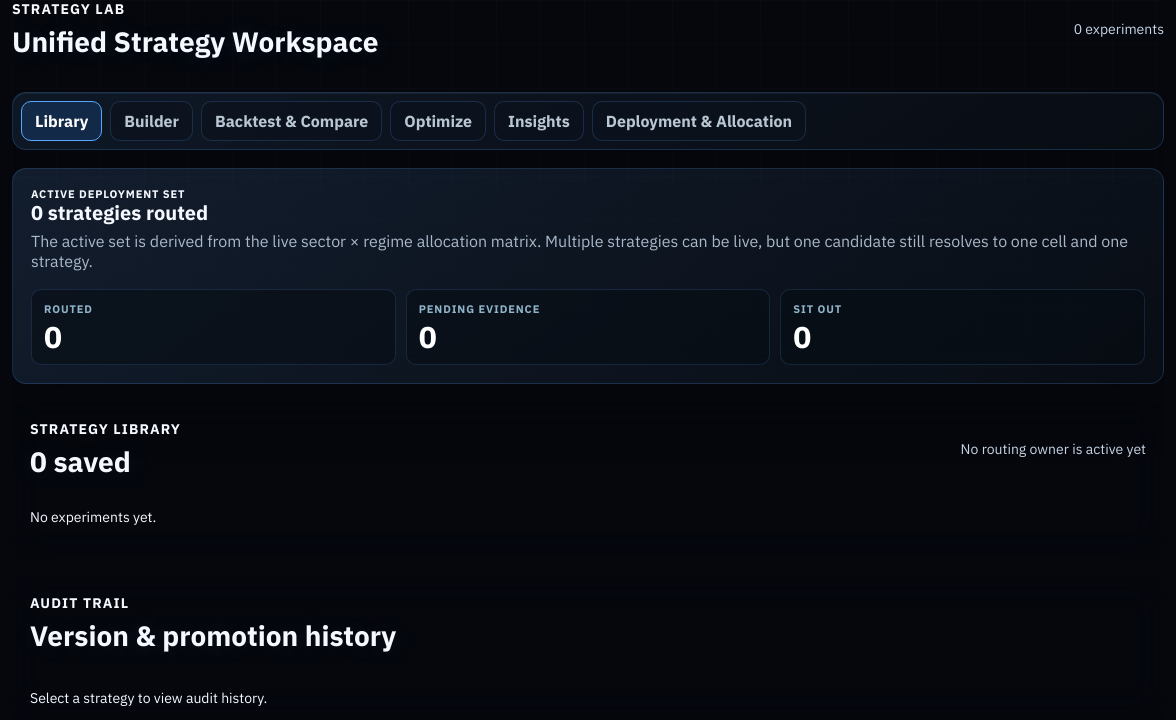
Test: StrategyLabPage › renders the deployment and allocation tab
What coordinates should you click on to do the following:
click the button "Deployment & Allocation"
I would click on:
 (699, 121)
Its box is [592,101,806,141].
(page scrolled)
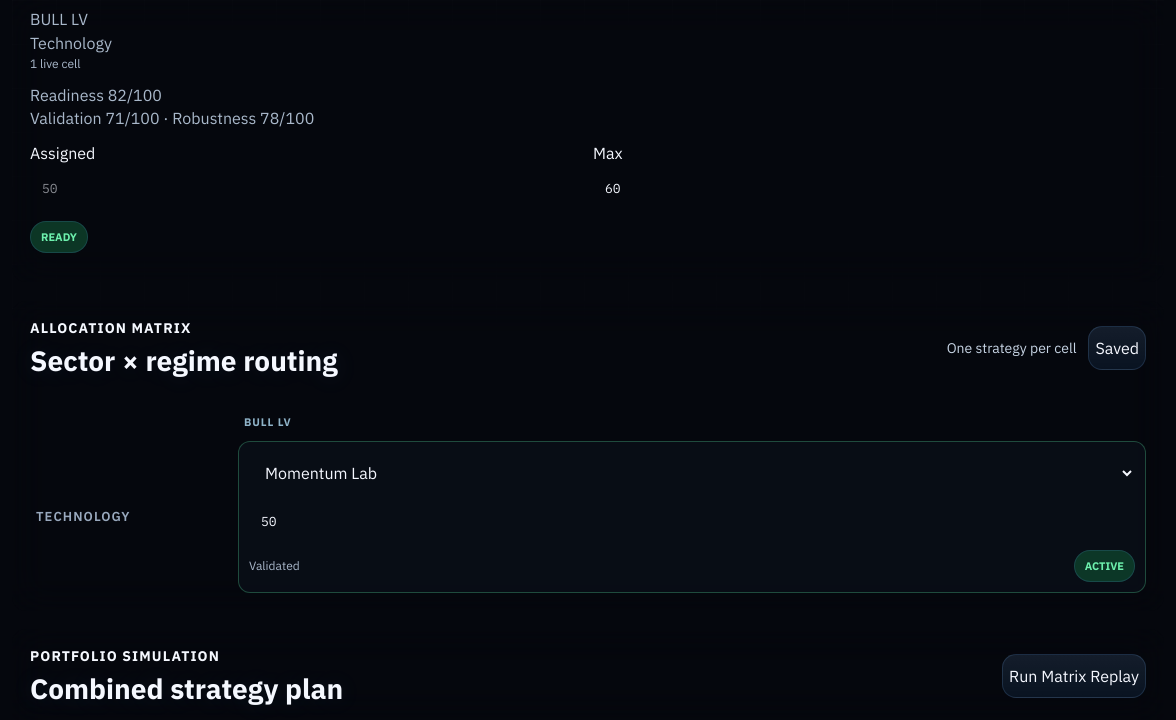
Result: the heading "Sector × regime routing" is shown at [30,344,338,377]
